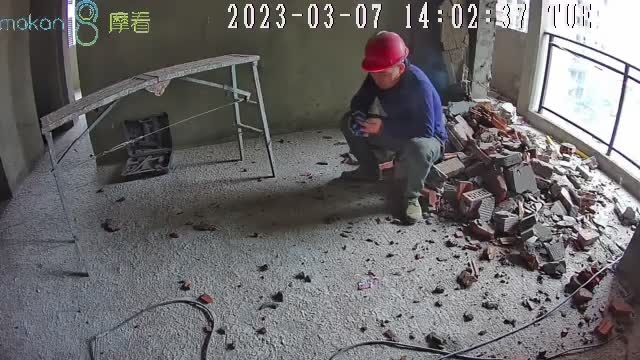people: (340, 30, 448, 224)
window: (538, 1, 640, 174)
